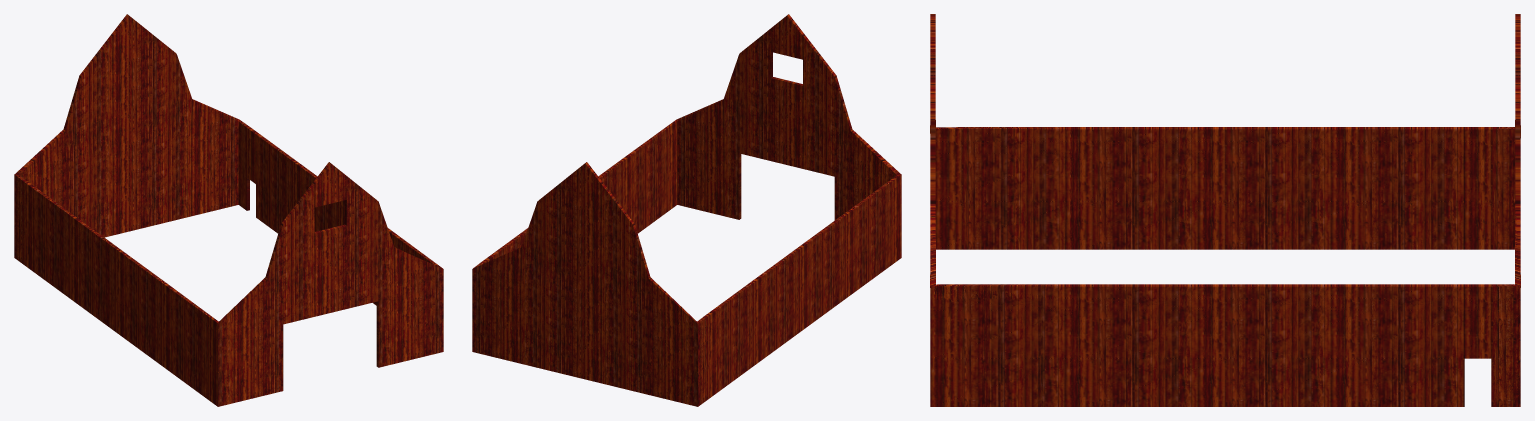
The picture shows the model from 3 angles, left to right: view 1: azimuth 30°, elevation 25°; view 2: azimuth 150°, elevation 25°; view 3: azimuth 270°, elevation 25°; orthographic projection. The views are drawn at different scales.
Parts seen in each view (by area): view 1: Plane_Material001_0; view 2: Plane_Material001_0; view 3: Plane_Material001_0.
Part boxes in pixels (<box>): Plane_Material001_0: <box>14,14,443,406</box>; Plane_Material001_0: <box>472,14,901,406</box>; Plane_Material001_0: <box>930,14,1520,406</box>.
Size of the model in its own units: 14.2 by 13 by 22.22.
1 material, 1 textured.
